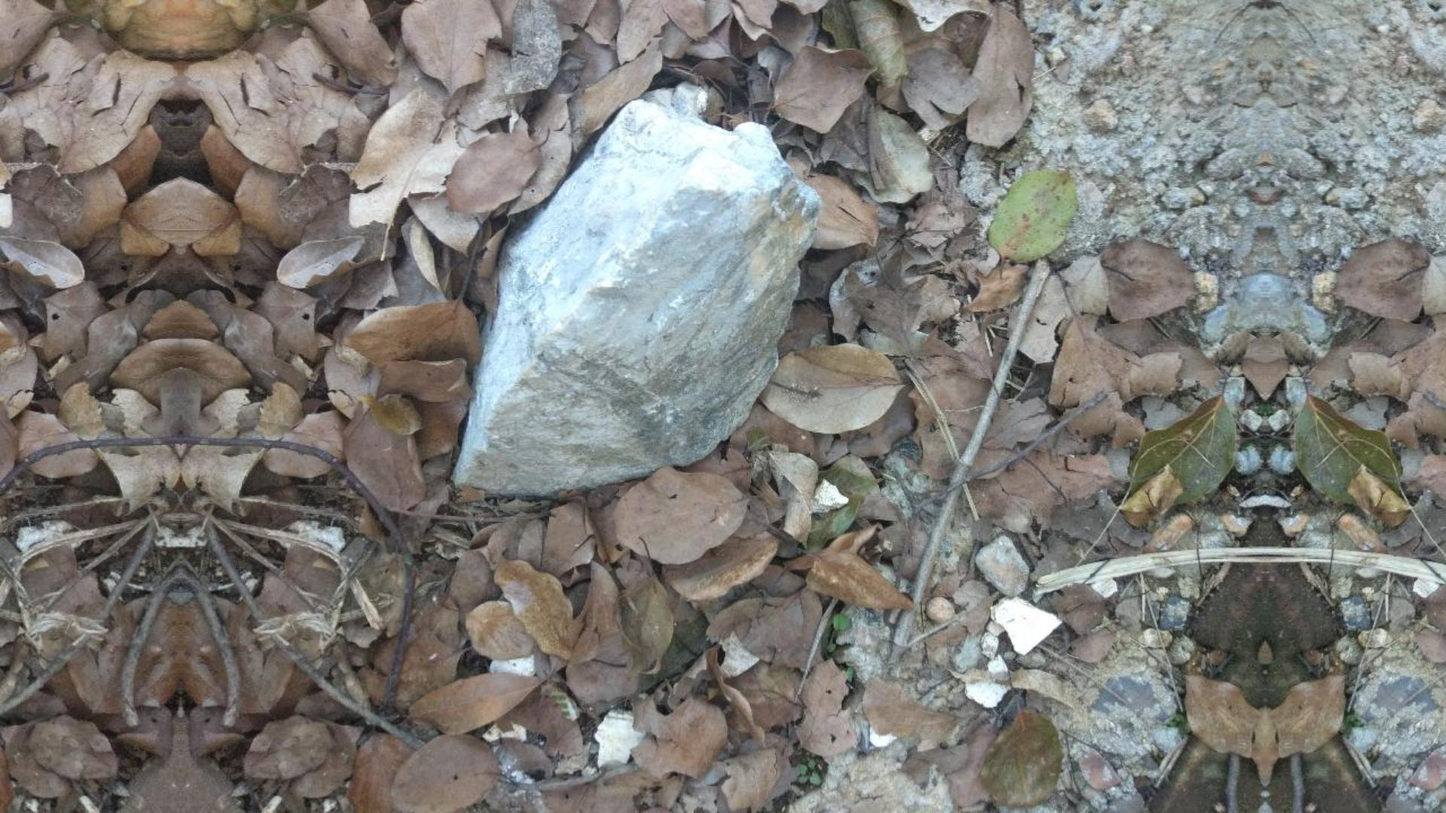rock: (453, 100, 818, 496)
